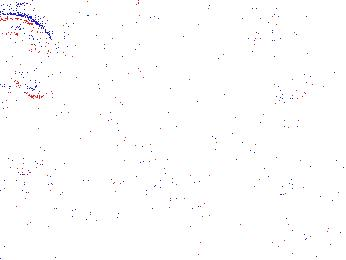moon jellyfish: (45, 4, 119, 114), (277, 87, 346, 199), (1, 14, 58, 100), (253, 22, 312, 103), (101, 20, 145, 104)
